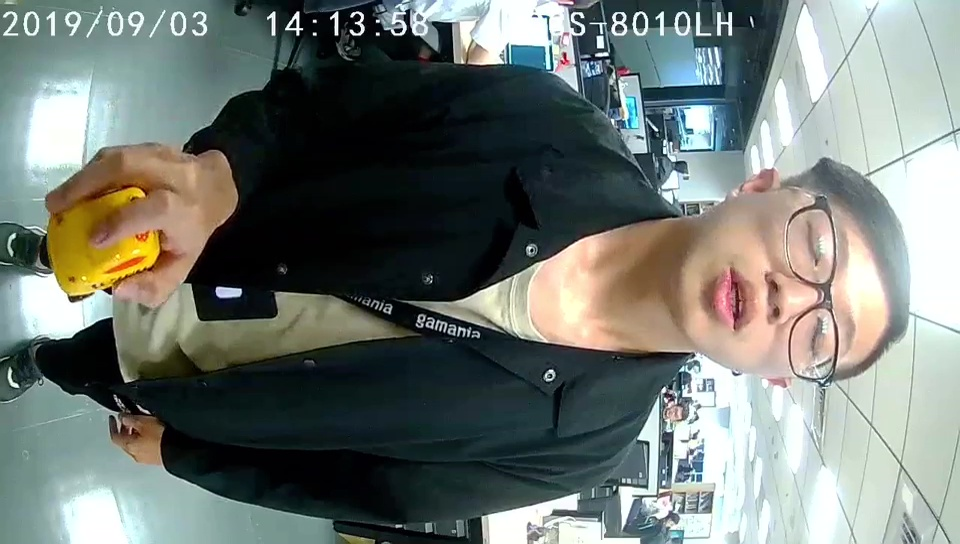car: (49, 188, 163, 293)
